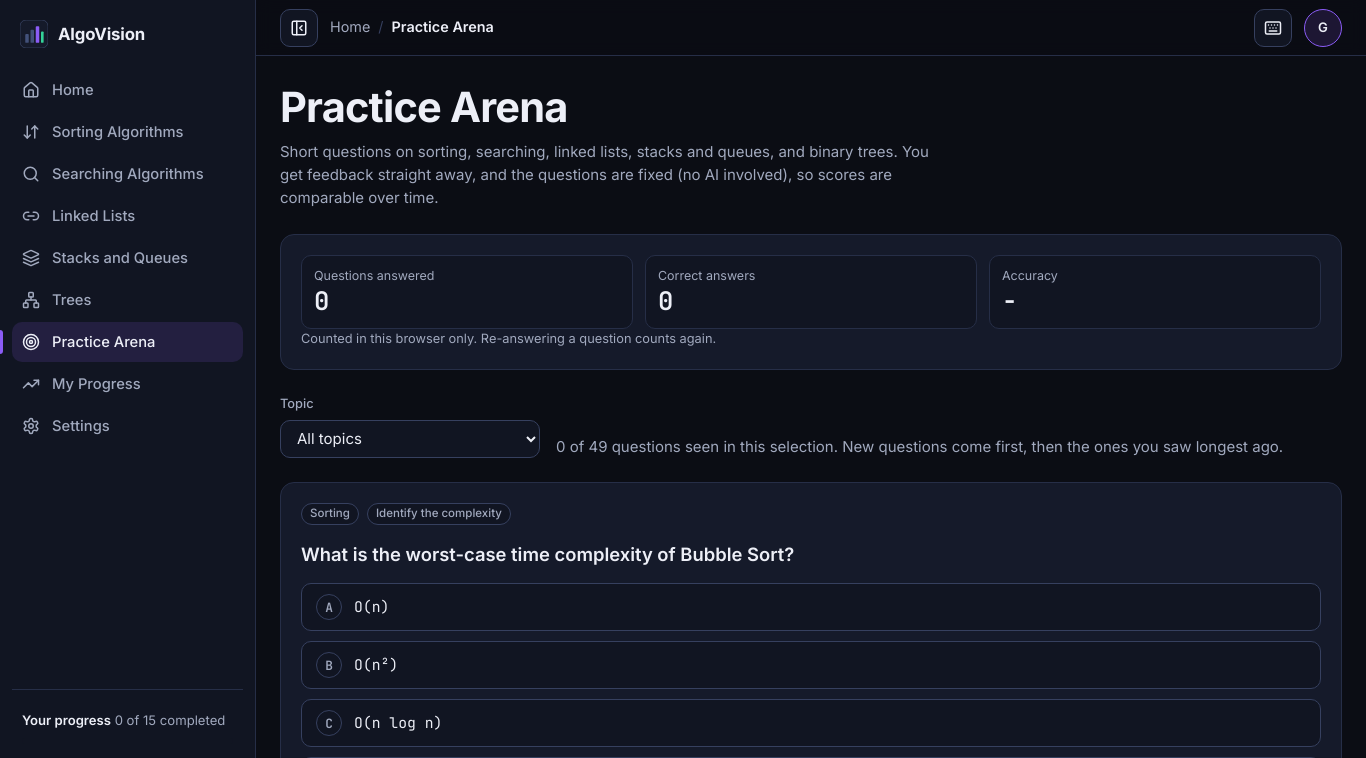
Test case: practice arena › answering gives feedback, is recorded, and the next question differs
Click the button "A O(n)". click: (372,606)
box: [301,583,1321,631]
(page scrolled)
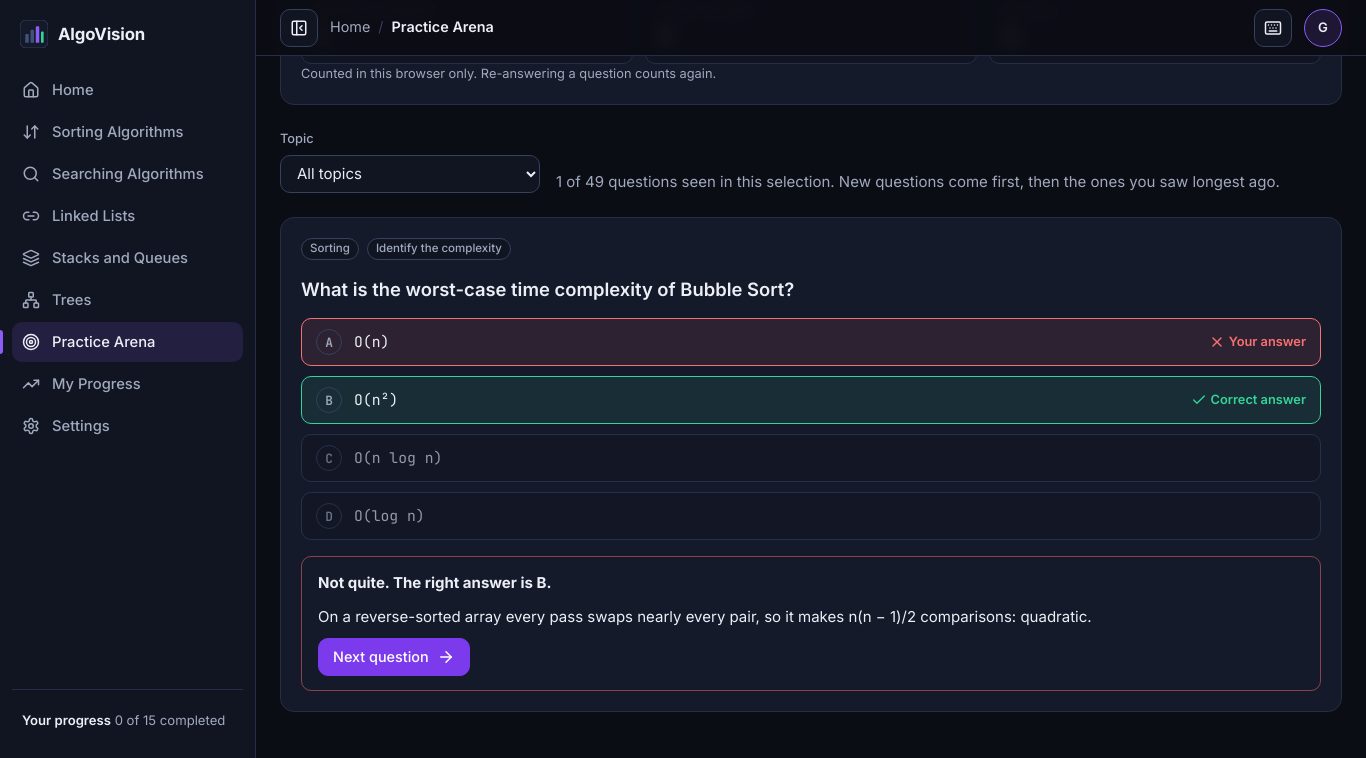
Click the button "Next question". click: (394,657)
box: [318,638,470,676]
(page scrolled)
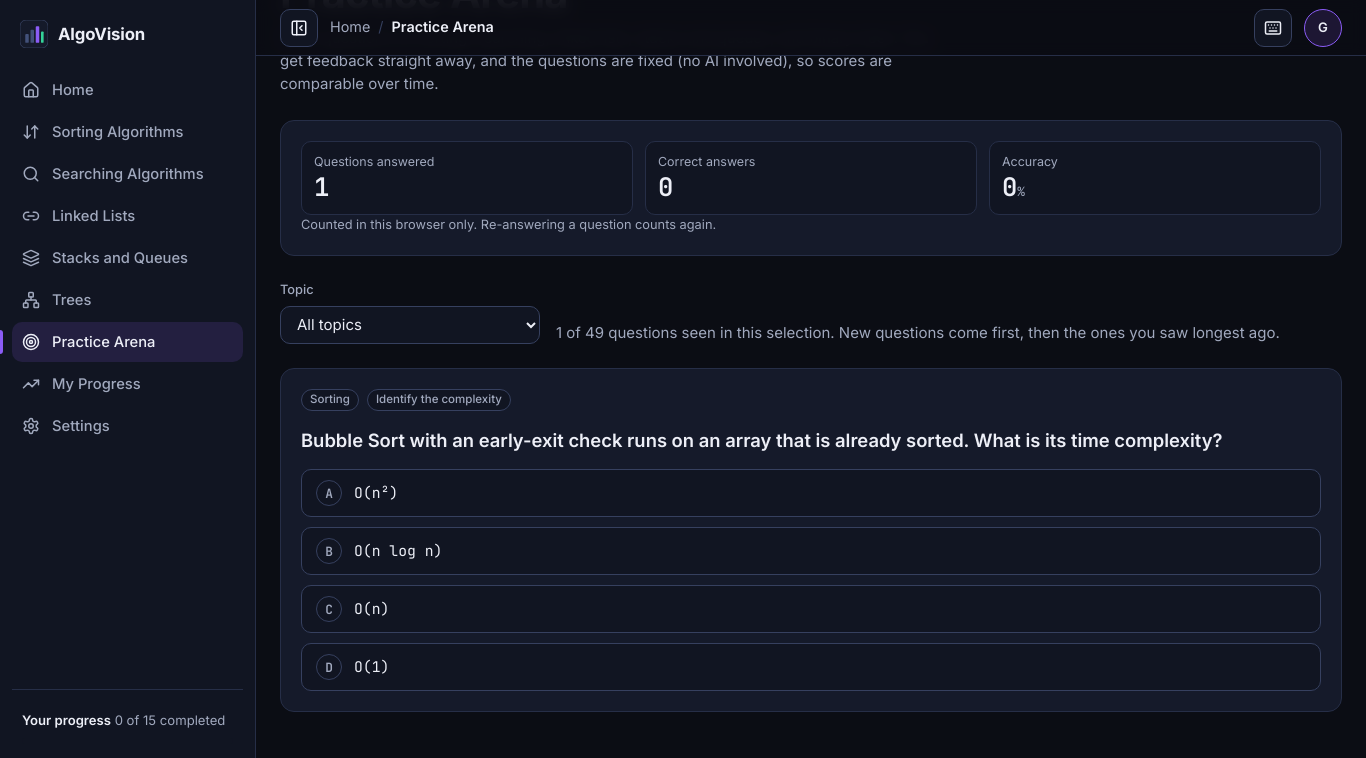
Check: the heading "What is the worst-case time complexity of Bubble Sort?" no longer shows "What is the worst-case time complexity of Bubble Sort?"
